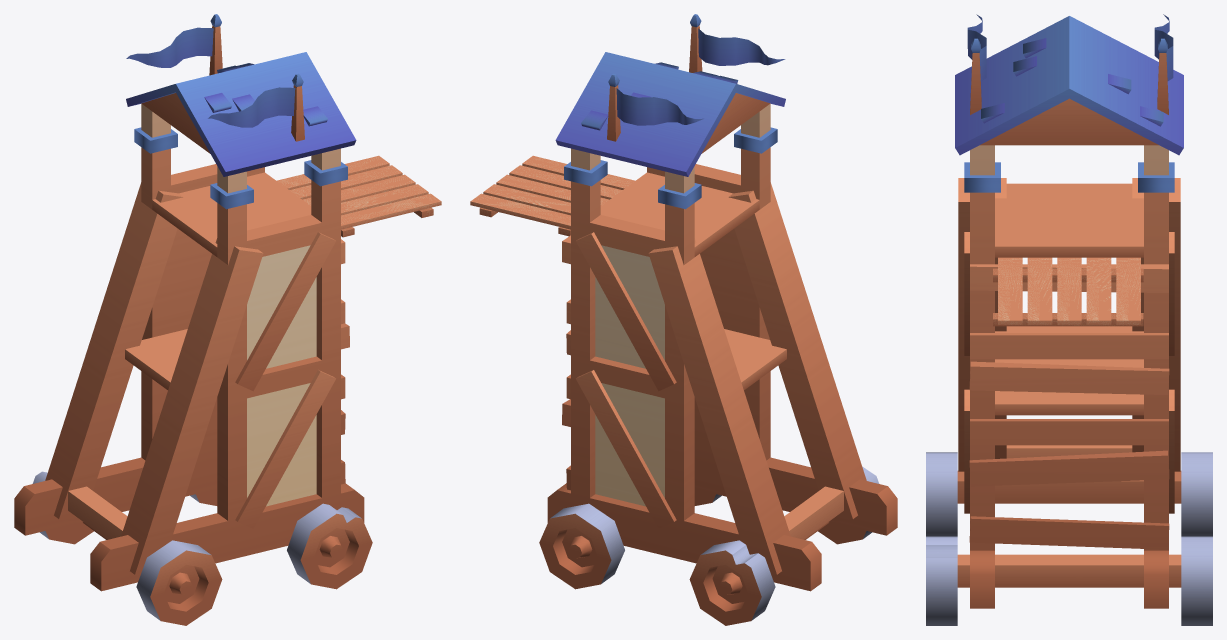
The model's file is siege-tower.obj.
The picture shows the model from 3 angles, left to right: view 1: azimuth 30°, elevation 25°; view 2: azimuth 150°, elevation 25°; view 3: azimuth 270°, elevation 25°; orthographic projection. The views are drawn at different scales.
Parts seen in each view (by area): view 1: siege-tower, wheel; view 2: siege-tower, wheel; view 3: siege-tower, wheel.
Boxes of the visible parts, x1=… form: siege-tower: x1=14, y1=14, x2=441, y2=591; wheel: x1=32, y1=471, x2=372, y2=625; siege-tower: x1=470, y1=14, x2=897, y2=591; wheel: x1=539, y1=466, x2=879, y2=625; siege-tower: x1=955, y1=14, x2=1183, y2=608; wheel: x1=926, y1=452, x2=1212, y2=625.
Bounding box in the file's own units: 1.97 × 2.68 × 1.21.
Materials: 1 (1 with a texture image).
